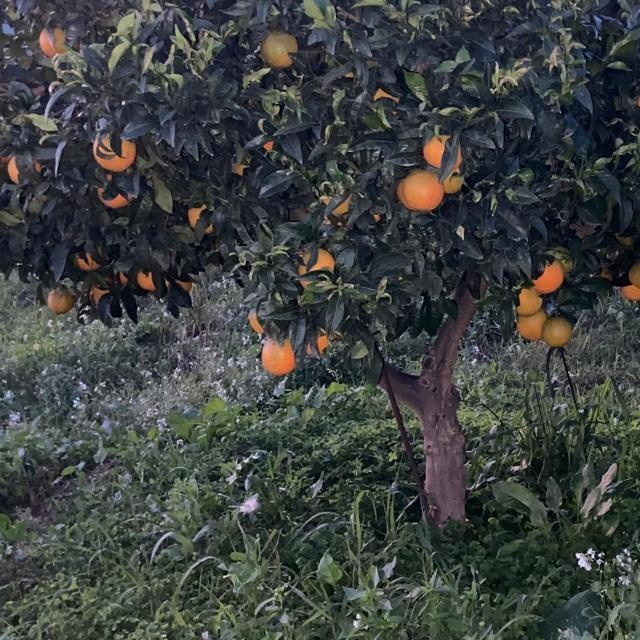orange: (397, 167, 443, 211), (297, 248, 335, 292), (92, 134, 136, 170), (260, 29, 298, 67), (422, 134, 460, 170), (261, 337, 295, 373), (534, 256, 566, 294), (514, 286, 544, 326), (316, 187, 350, 217), (38, 24, 68, 56), (544, 313, 572, 345), (372, 87, 402, 115), (76, 241, 106, 269), (258, 135, 286, 163), (44, 287, 72, 313), (516, 311, 544, 337), (6, 154, 34, 180), (98, 187, 132, 207), (188, 204, 212, 230), (439, 170, 463, 194), (620, 270, 640, 298), (230, 160, 252, 184), (247, 310, 265, 334), (134, 269, 154, 289), (315, 330, 331, 354), (169, 275, 193, 291), (628, 260, 640, 290), (89, 285, 111, 301), (115, 268, 133, 286), (636, 88, 640, 120)
